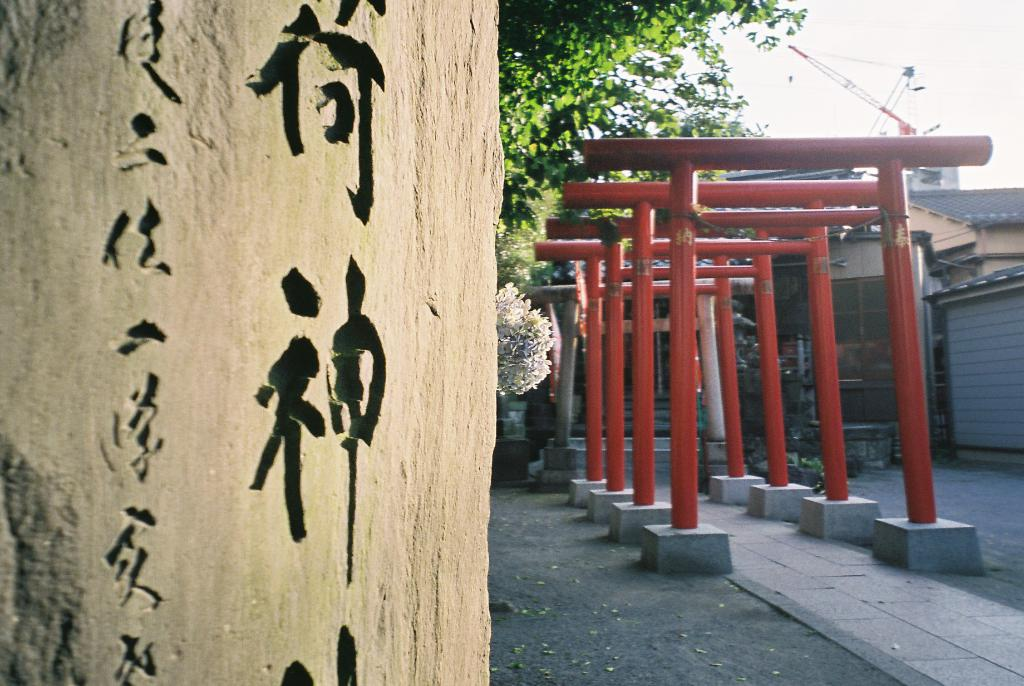Tree: (497, 0, 808, 441)
